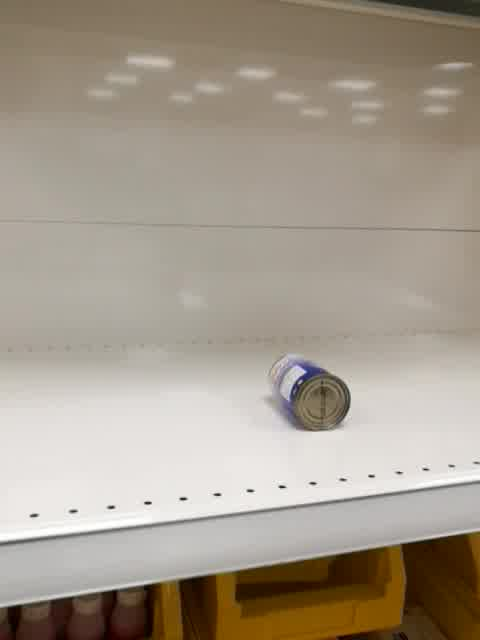sardine: (267, 352, 352, 433)
